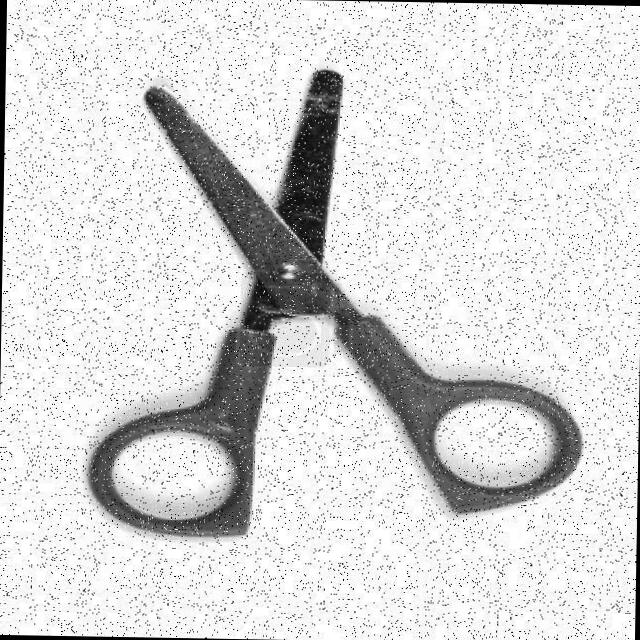scissors: (80, 59, 592, 552)
